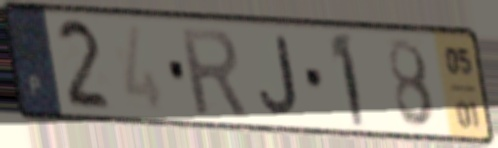1: (326, 30, 369, 130)
2: (55, 16, 116, 117)
4: (119, 21, 167, 116)
8: (385, 36, 437, 131)
J: (257, 33, 301, 119)
R: (175, 24, 251, 119)
